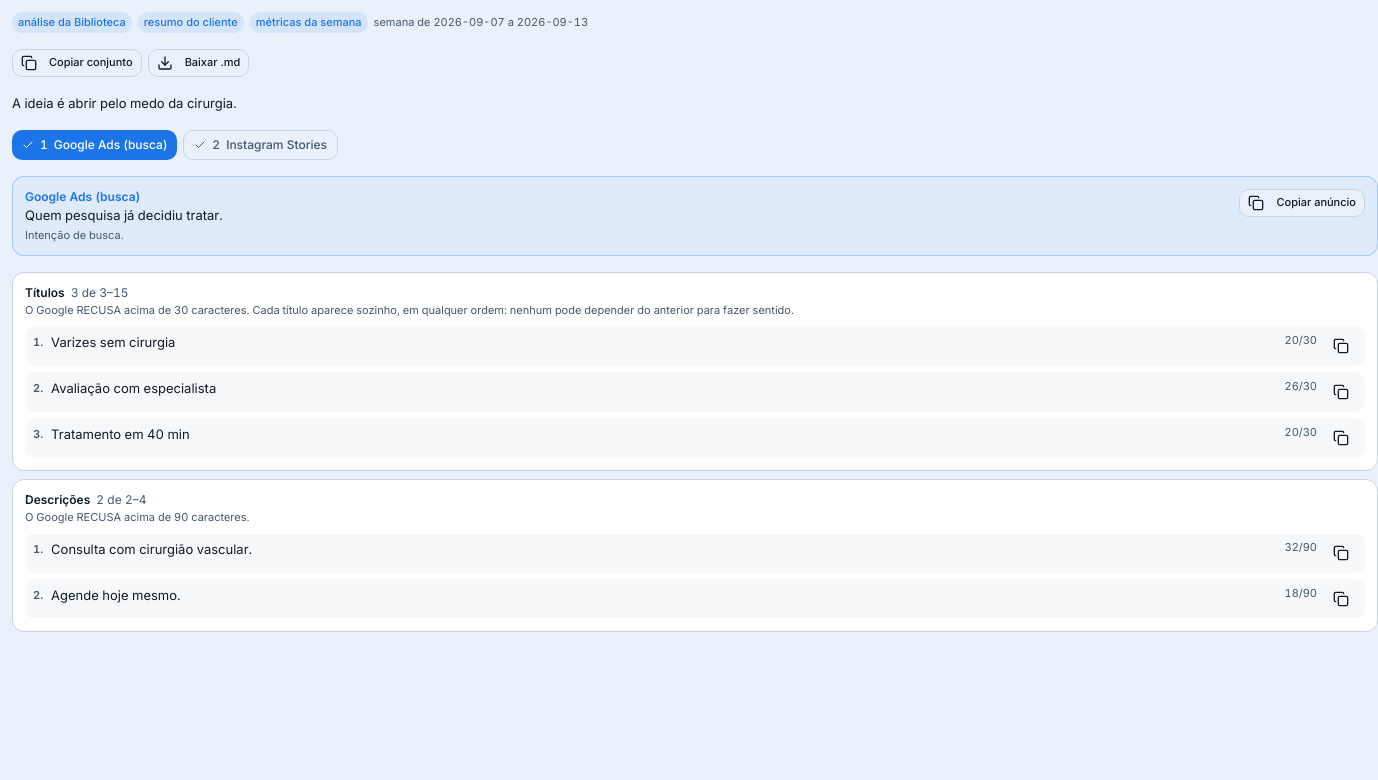
Scenario: ComposicaoResultado — vários anúncios › cada anúncio mostra os campos do formato DELE
The width and height of the screenshot is (1378, 780).
Check: the heading "Títulos3 de 3–15" is shown, box [25,285,129,300]
Check: the text "Sequência de telas" is not shown
Click the button "2 Instagram Stories" at (261,145), box [183,130,338,160]
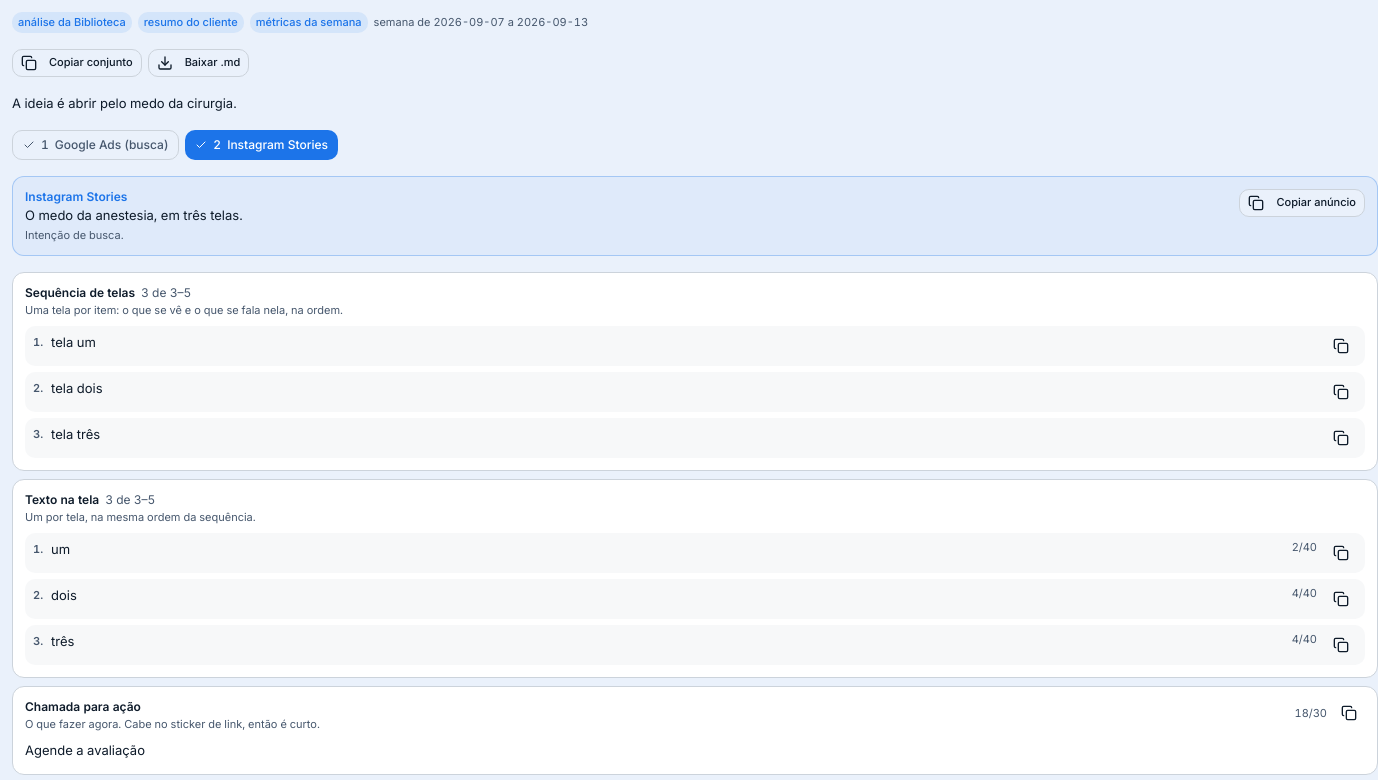
Check: the heading "Sequência de telas3 de 3–5" is shown, box [25,285,191,300]
Check: the text "O medo da anestesia, em três telas." is shown, box [25,207,243,224]
Check: the heading "Títulos" is gone
